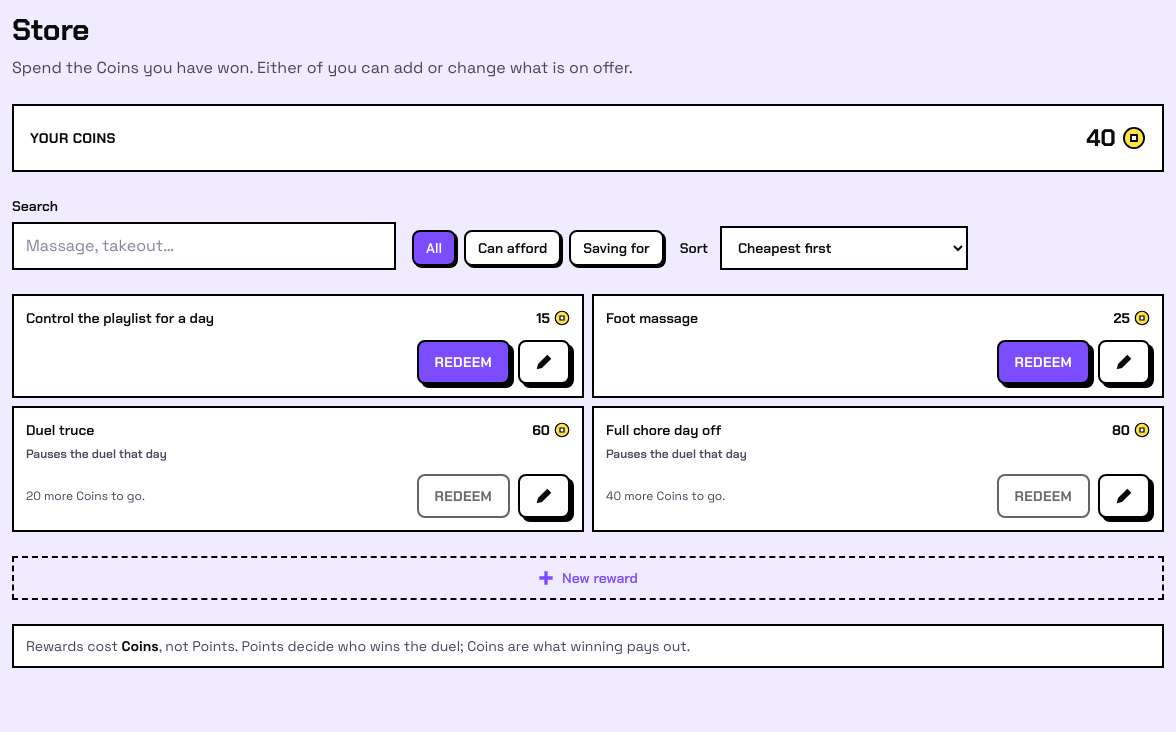
Test: redeeming › reports the balance the server returned, not the one it could have calculated
Expected: the heading "Foot massage" is shown, [606,308,698,328]
Click the button "Redeem" below "25".
click(1043, 362)  # box [997,340,1090,384]
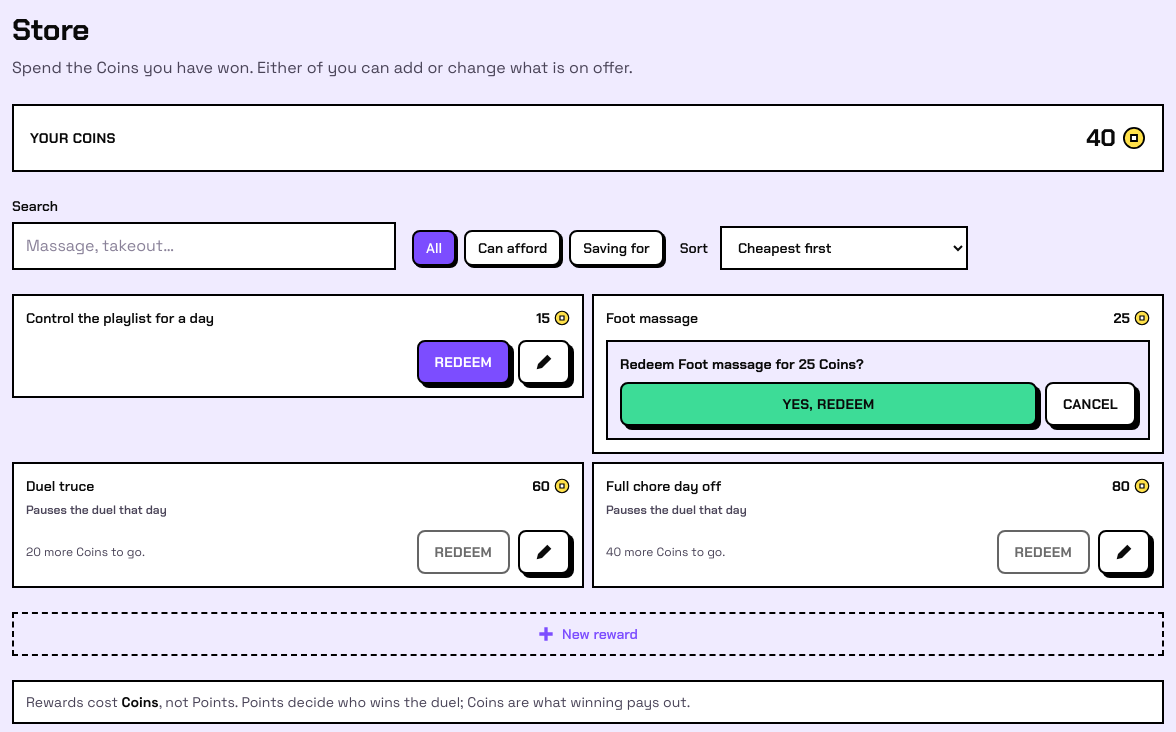
Click the button "Yes, redeem".
click(828, 404)  # box [620,382,1037,426]
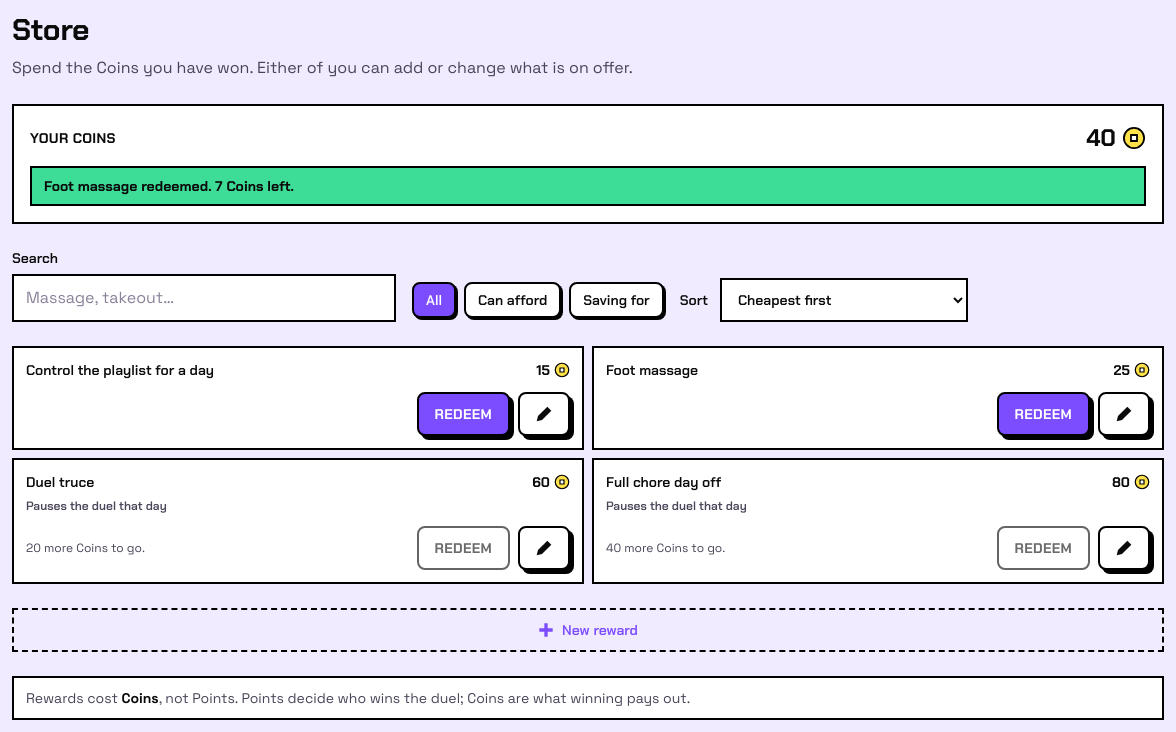
Expected: the message does not show "15", [30,166,1146,206]
Expected: the message reads "Foot massage redeemed. 7 Coins left.", [44,177,294,195]
